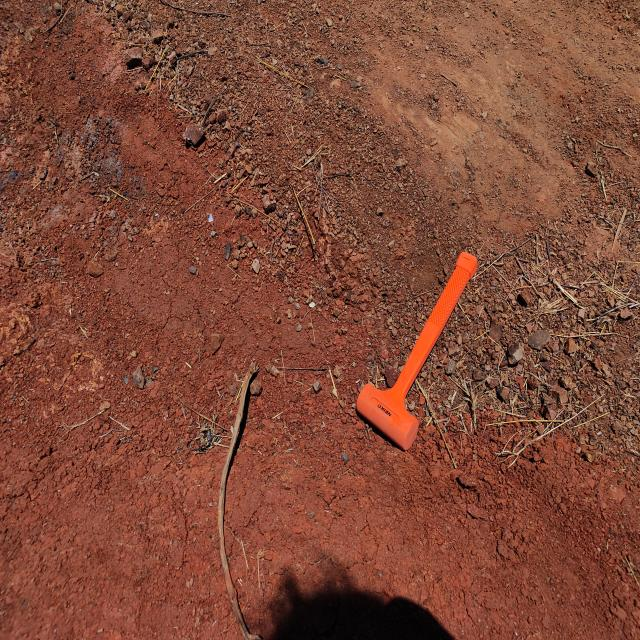Orange_hammer: (355, 250, 478, 451)
